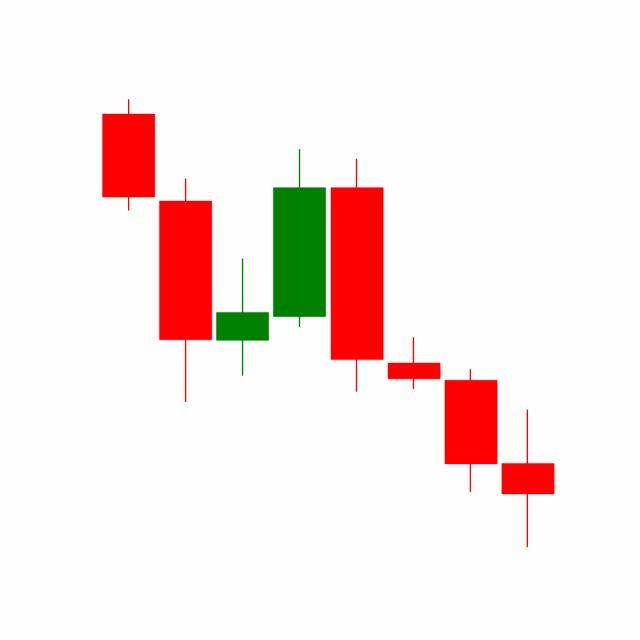Hikkake Pattern: (214, 146, 501, 498)
